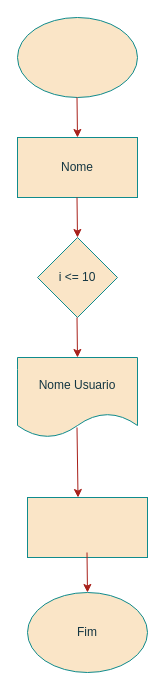
The diagram is 165 pixels wide and 690 high, and some of its shapes have lost their labels. The centre of each missing label's shape, as x and y in pixels:
i ++: the point at 87,527
Inicio: the point at 77,57
